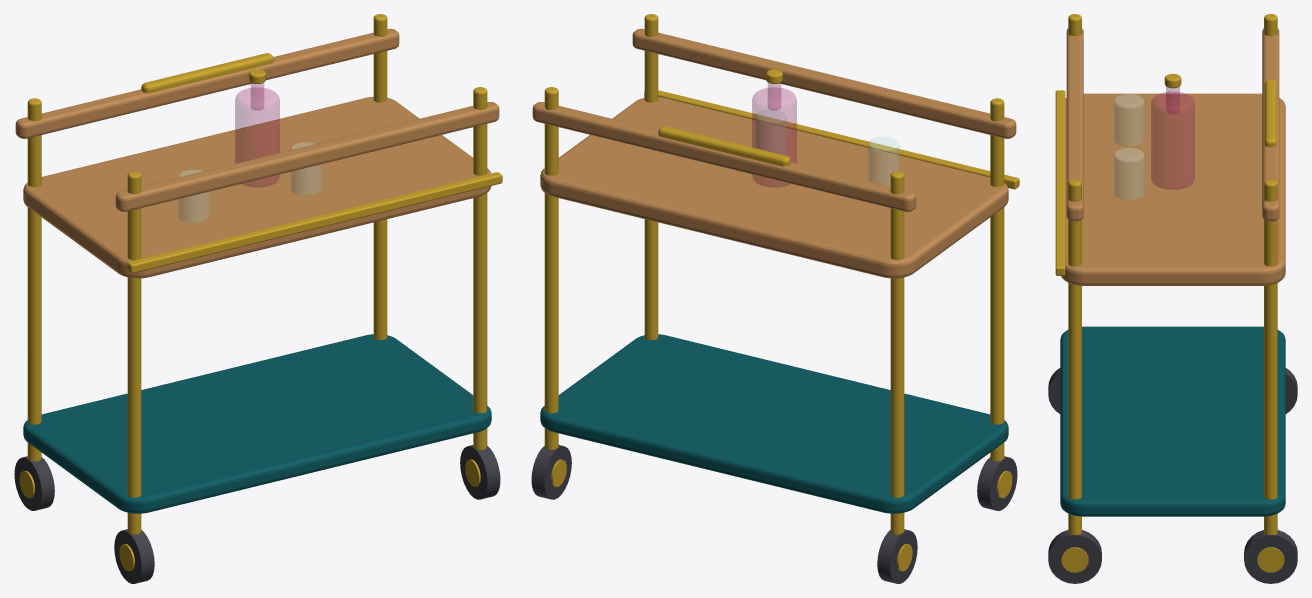
Rendered from lobby-bar-cart.glb.
The picture shows the model from 3 angles, left to right: view 1: azimuth 30°, elevation 25°; view 2: azimuth 150°, elevation 25°; view 3: azimuth 270°, elevation 25°; orthographic projection.
Parts seen in each view (by area): view 1: shelf.low, shelf.top, rail.f, rail.b, shelf.top.nose, post.l.f, post.r.f, post.l.b, bottle.body, post.r.b, rail.grip, wheel.l.f (+4 smaller); view 2: shelf.low, shelf.top, rail.f, rail.b, post.l.b, post.r.b, post.l.f, bottle.body, post.r.f, shelf.top.nose, rail.grip, wheel.l.b (+4 smaller); view 3: shelf.low, shelf.top, post.r.b, post.r.f, bottle.body, rail.f, rail.b, shelf.top.nose, wheel.r.b, wheel.r.f, glass.left, glass.right (+6 smaller).
Boxes of the visible parts, x1,y1,x2,y2 form: shelf.low: (23, 334, 491, 513); shelf.top: (23, 96, 491, 278); rail.f: (115, 102, 499, 211); rail.b: (15, 28, 399, 138); shelf.top.nose: (127, 172, 502, 273); post.l.f: (127, 171, 141, 534); post.r.f: (473, 87, 487, 450); post.l.b: (27, 98, 41, 461); bottle.body: (235, 88, 279, 187); post.r.b: (373, 14, 387, 340); rail.grip: (141, 53, 273, 93); wheel.l.f: (114, 529, 154, 583); shelf.low: (540, 334, 1008, 513); shelf.top: (540, 97, 1008, 278); rail.f: (632, 28, 1016, 138); rail.b: (532, 102, 916, 211); post.l.b: (890, 171, 904, 534); post.r.b: (544, 87, 558, 450); post.l.f: (990, 98, 1004, 461); bottle.body: (752, 88, 796, 187); post.r.f: (644, 14, 658, 340); shelf.top.nose: (644, 90, 1019, 189); rail.grip: (658, 126, 790, 166); wheel.l.b: (877, 529, 917, 583); shelf.low: (1060, 326, 1285, 516); shelf.top: (1061, 93, 1285, 285); post.r.b: (1264, 179, 1277, 534); post.r.f: (1068, 179, 1081, 534); bottle.body: (1151, 92, 1194, 189); rail.f: (1066, 28, 1083, 221); rail.b: (1262, 28, 1279, 221); shelf.top.nose: (1055, 90, 1065, 275); wheel.r.b: (1244, 530, 1297, 583); wheel.r.f: (1048, 530, 1101, 583); glass.left: (1113, 94, 1144, 145); glass.right: (1113, 148, 1144, 199).
Bounding box in the file's own units: 0.88 × 0.95 × 0.51.
